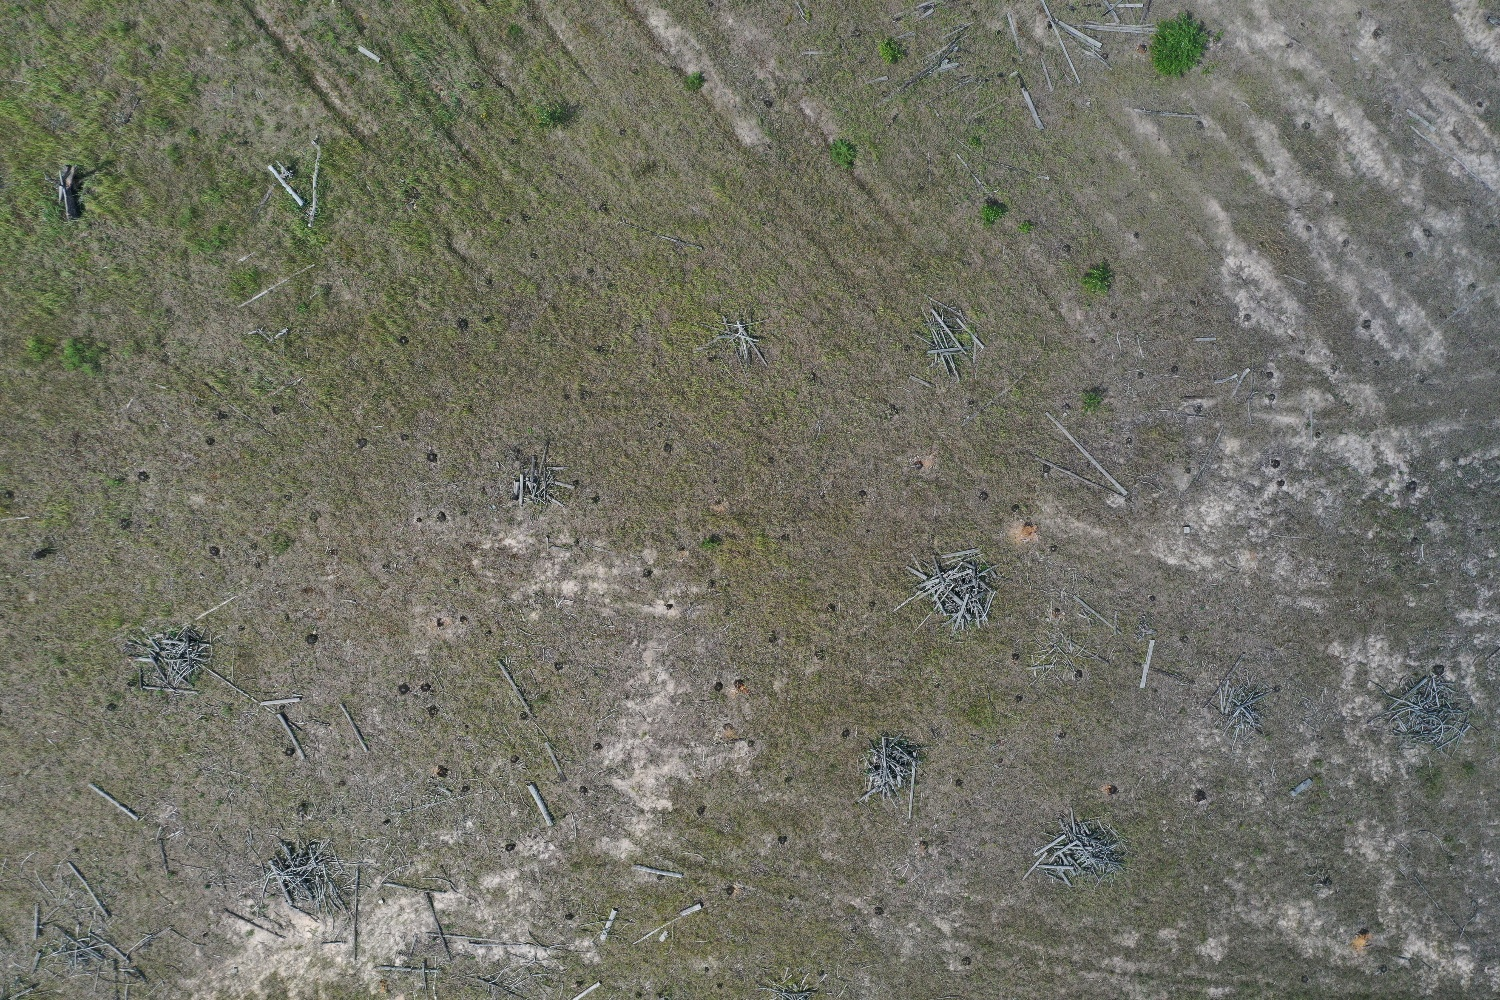branches: (1022, 808, 1134, 888), (907, 546, 996, 629), (267, 836, 350, 919), (1379, 677, 1469, 746), (916, 292, 985, 379), (133, 621, 213, 694), (858, 732, 922, 818), (1213, 685, 1273, 738), (512, 443, 561, 506), (721, 312, 771, 368), (49, 924, 104, 970), (771, 984, 818, 1000)
